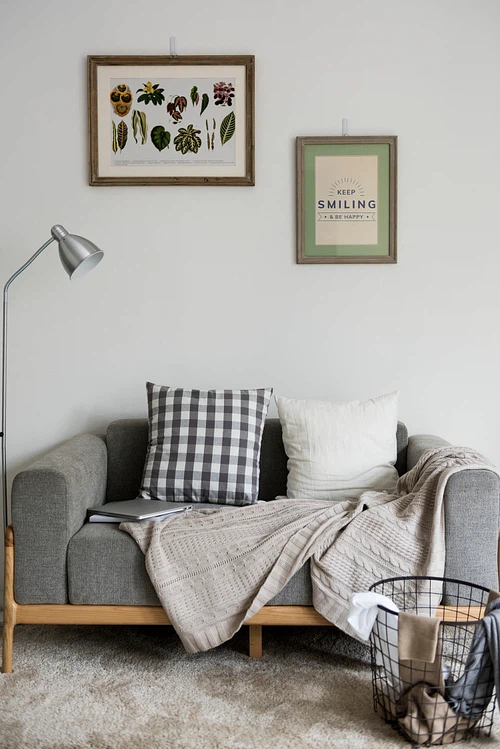floor lamp: (1, 211, 111, 608)
sofa: (0, 374, 500, 672)
wall art: (82, 52, 258, 191), (289, 132, 401, 268)
